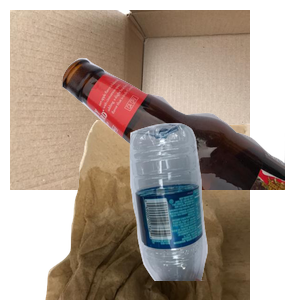cardboard: (10, 10, 250, 190)
glass: (60, 56, 300, 236)
plastic: (127, 120, 300, 300)
trash: (43, 120, 283, 300)
